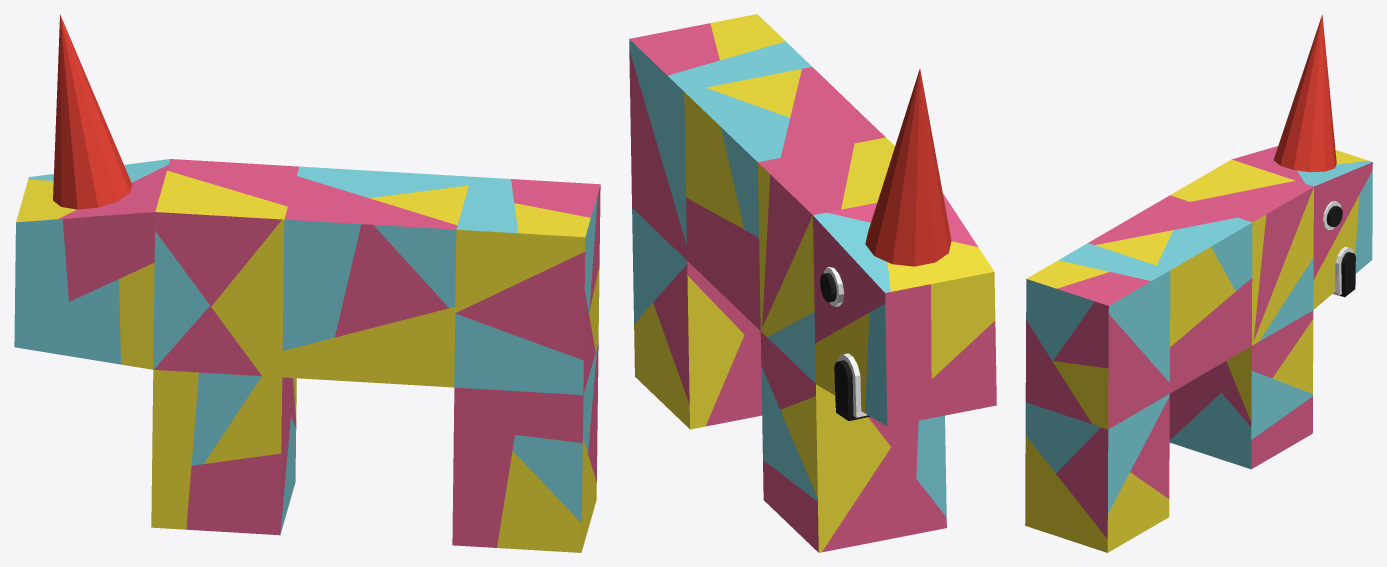
The model's file is single-rhino-by-karl-channell-0cmVY6zuGDj.glb.
3 renders of one model, left to right at view 1: azimuth 30°, elevation 25°; view 2: azimuth 150°, elevation 25°; view 3: azimuth 270°, elevation 25°, orthographic. The views are drawn at different scales.
Parts seen in each view (by area): view 1: Node; view 2: Node; view 3: Node.
Part boxes in pixels (x1,y1,x2,y2): Node: (14, 14, 600, 552); Node: (629, 14, 996, 552); Node: (1025, 15, 1372, 552).
Size of the model in its own units: 1.19 by 1.19 by 0.9762.
